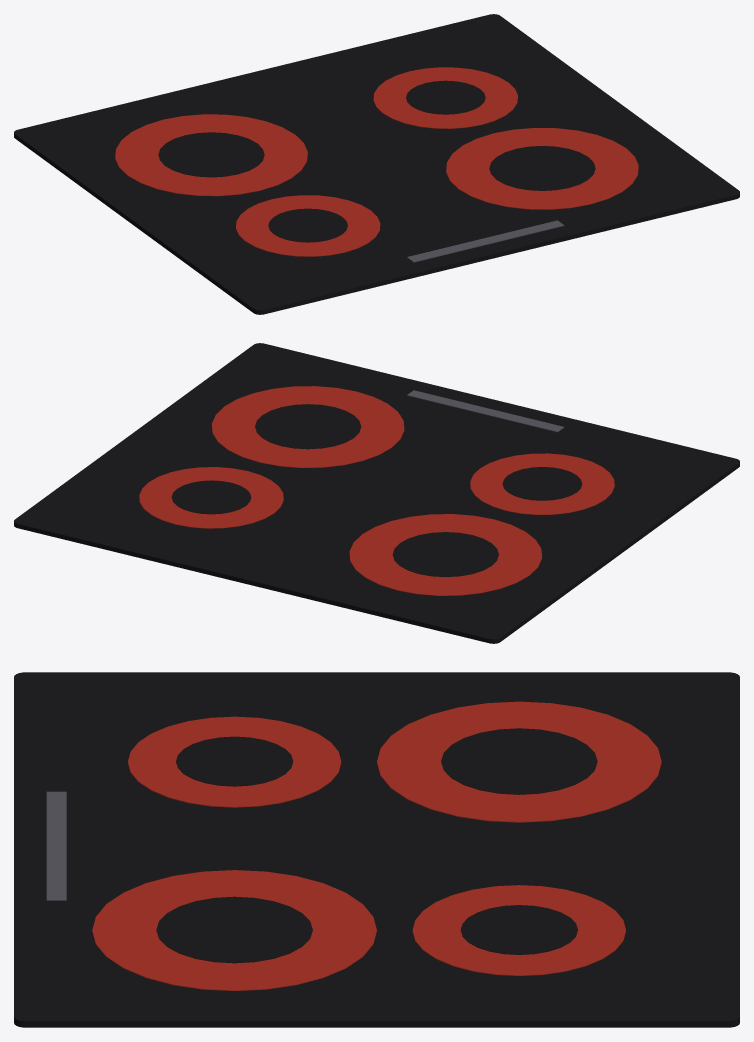
The model's file is a_hob_el4_1.glb.
3 renders of one model, top to bottom at view 1: azimuth 30°, elevation 25°; view 2: azimuth 150°, elevation 25°; view 3: azimuth 270°, elevation 25°, orthographic. The views are drawn at different scales.
Parts seen in each view (by area): view 1: o, o.007, o.001, o.003, o.005, o.002, o.008, o.004, o.006, o.009; view 2: o, o.001, o.007, o.003, o.005, o.008, o.002, o.004, o.006, o.009; view 3: o, o.001, o.007, o.003, o.005, o.008, o.002, o.004, o.006, o.009.
Part boxes in pixels (<box>): o: <box>14,14,739,314</box>; o.007: <box>446,128,638,209</box>; o.001: <box>115,114,307,196</box>; o.003: <box>373,67,517,128</box>; o.005: <box>236,195,380,256</box>; o.002: <box>158,132,264,177</box>; o.008: <box>489,146,595,190</box>; o.004: <box>406,80,485,114</box>; o.006: <box>268,208,347,242</box>; o.009: <box>407,220,564,262</box>; o: <box>14,343,739,643</box>; o.001: <box>349,514,542,595</box>; o.007: <box>211,386,404,467</box>; o.003: <box>139,467,283,528</box>; o.005: <box>470,453,614,514</box>; o.008: <box>255,404,361,449</box>; o.002: <box>392,532,498,577</box>; o.004: <box>171,480,251,514</box>; o.006: <box>502,467,582,500</box>; o.009: <box>407,390,564,432</box>; o: <box>14,672,739,1027</box>; o.001: <box>377,701,661,822</box>; o.007: <box>92,870,376,990</box>; o.003: <box>412,885,625,975</box>; o.005: <box>128,716,341,807</box>; o.008: <box>156,896,312,963</box>; o.002: <box>441,728,597,794</box>; o.004: <box>460,905,577,954</box>; o.006: <box>176,736,293,786</box>; o.009: <box>46,791,66,900</box>.
Size of the model in its own units: 0.58 by 0.0059 by 0.51.
